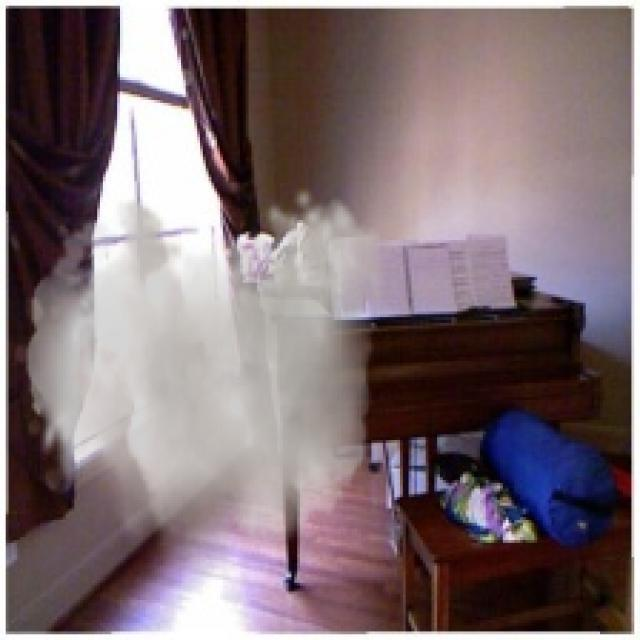Smoke: (26, 182, 386, 598)
